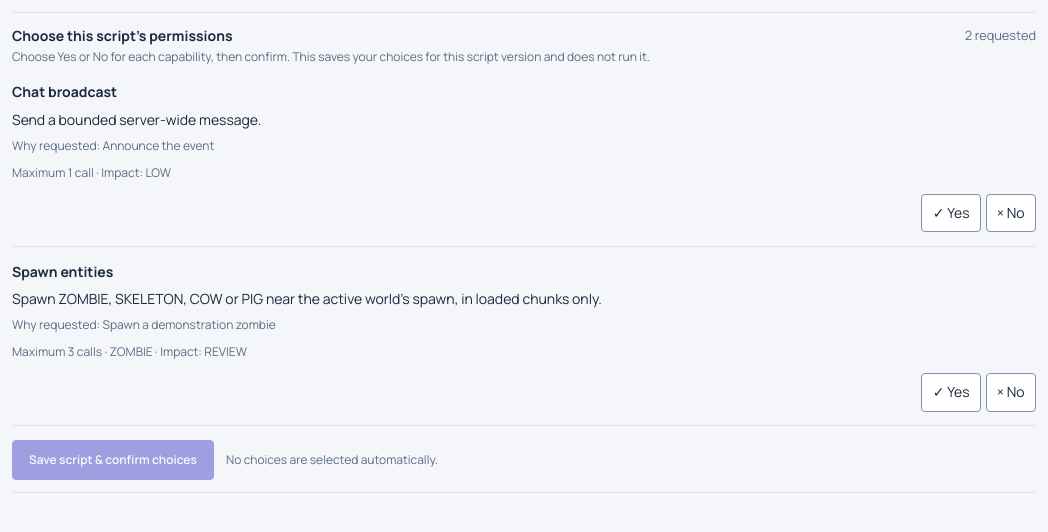
retries a failed review against the same saved version without creating another script
Click the button with aria-label "Yes, allow Chat broadcast". click: x=951, y=213
box: [921,194,981,232]
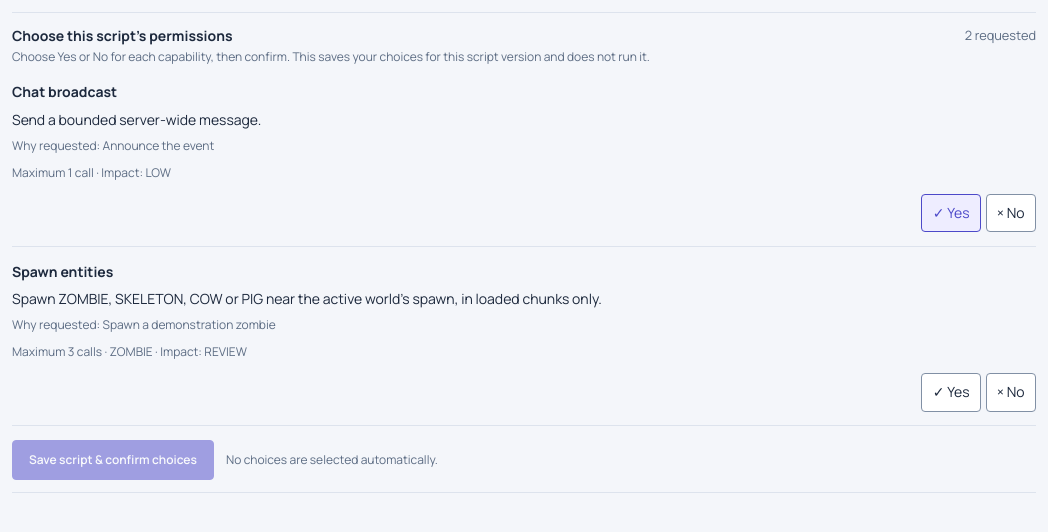
Click the button with aria-label "No, deny Spawn entities". click: x=1011, y=392
box: [986,373,1036,412]
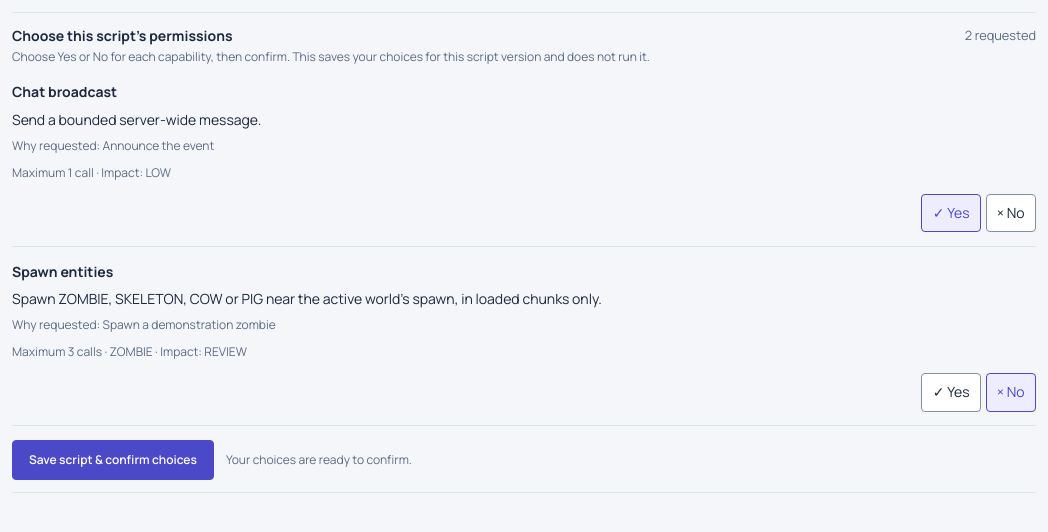
Click the button "Save script & confirm choices". click: x=113, y=460
box: [12,440,214,480]
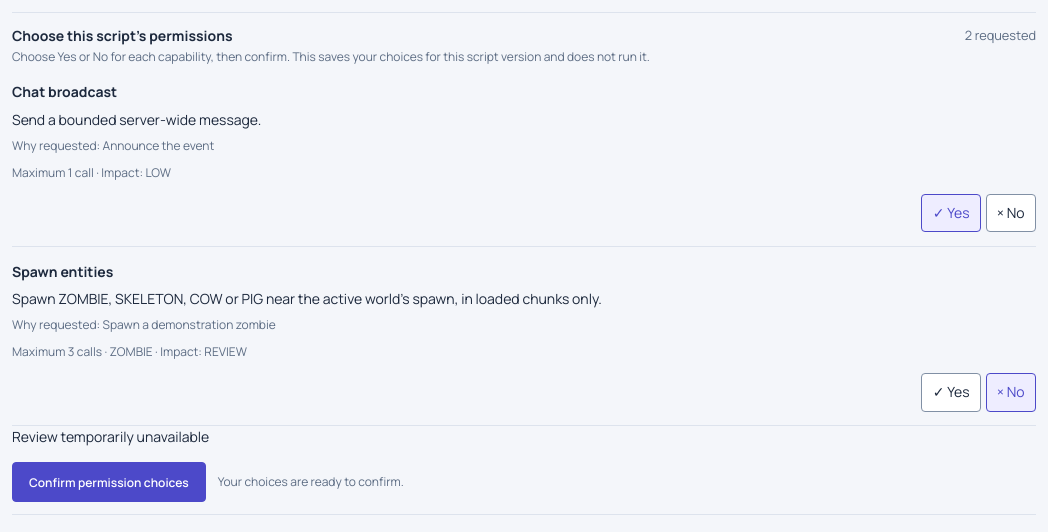
Expected: the message "Review temporarily unavailable" is shown, [12,427,209,446]
Click the button "Confirm permission choices". click: x=109, y=482
box: [12,462,206,502]
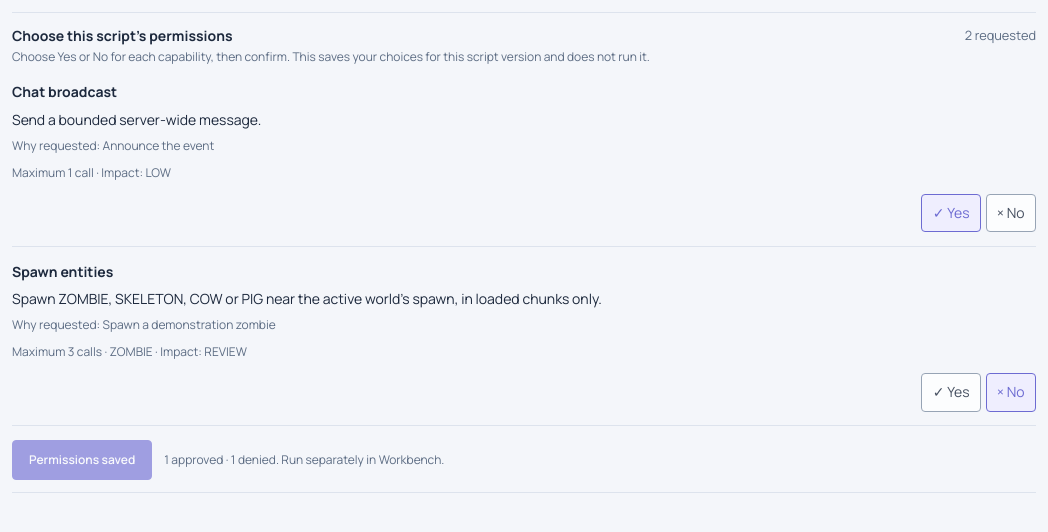
Expected: the text "1 approved · 1 denied. Run separately in Workbench." is shown, [164,450,444,470]
